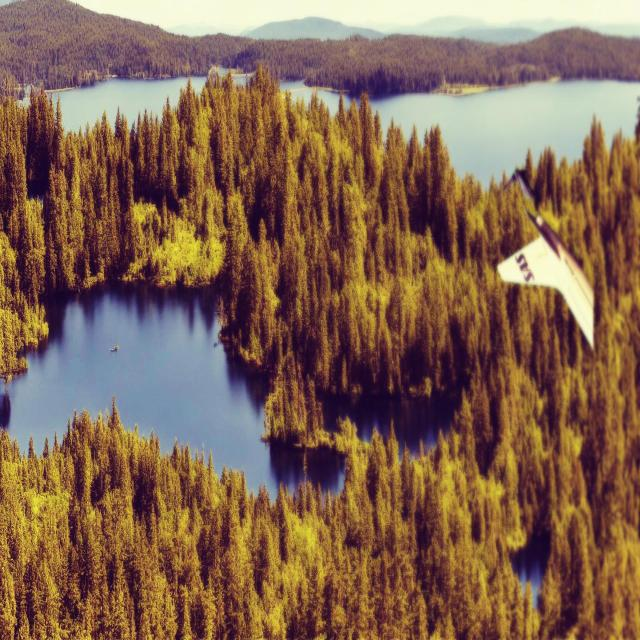airplane: (496, 167, 596, 352)
